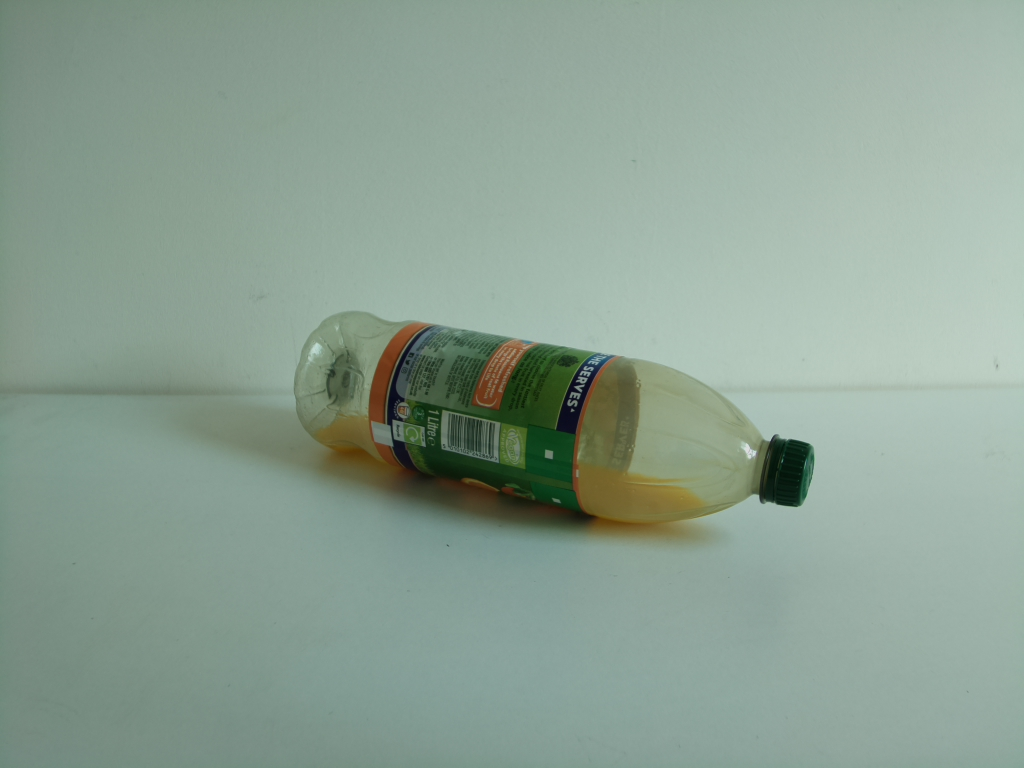juice: (289, 303, 819, 531)
